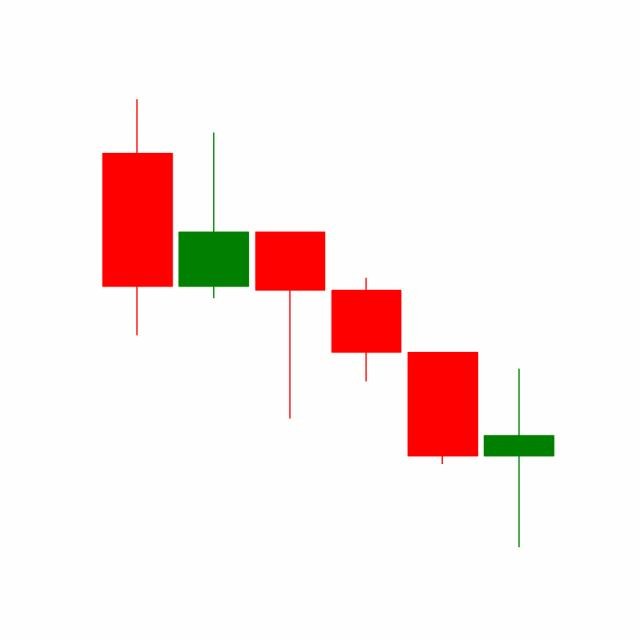Marubozu: (403, 351, 481, 466)
